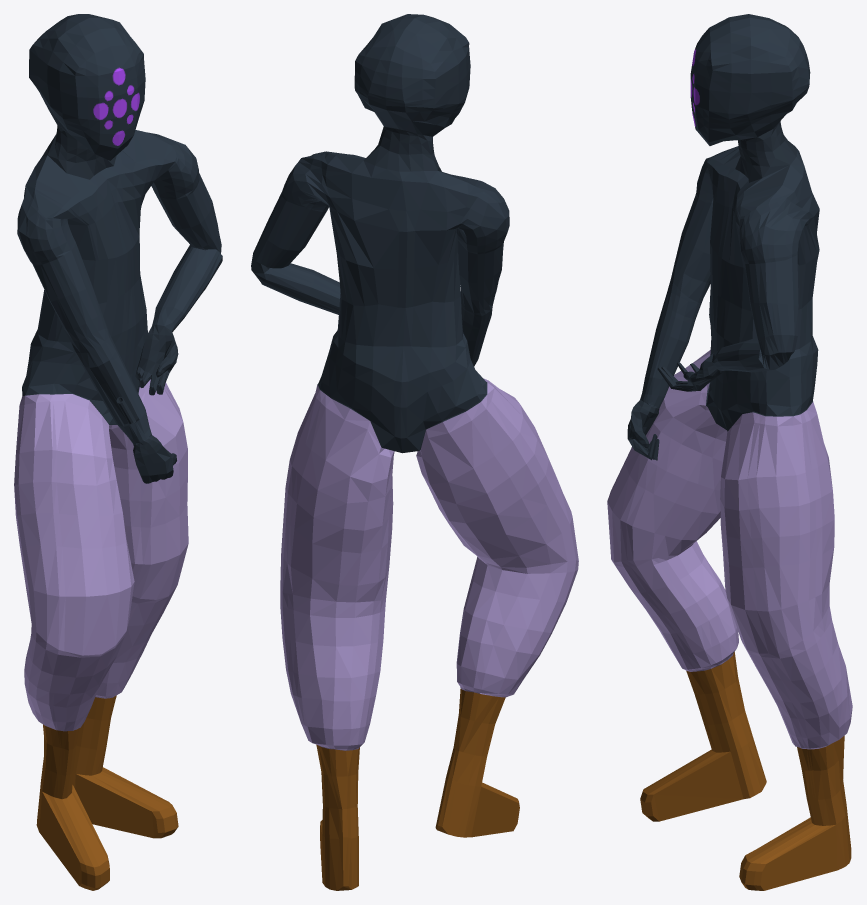
File: Oracle_WR_000004.obj
3 renders of one model, left to right at view 1: azimuth 30°, elevation 25°; view 2: azimuth 150°, elevation 25°; view 3: azimuth 270°, elevation 25°, orthographic.
Parts seen in each view (by area): view 1: Cube; view 2: Cube; view 3: Cube.
Part boxes in pixels (x1,y1,x2,y2): Cube: (14,14,222,890); Cube: (251,14,578,890); Cube: (607,14,852,890).
Bounding box in the file's own units: 1.22 × 3.89 × 1.04.
